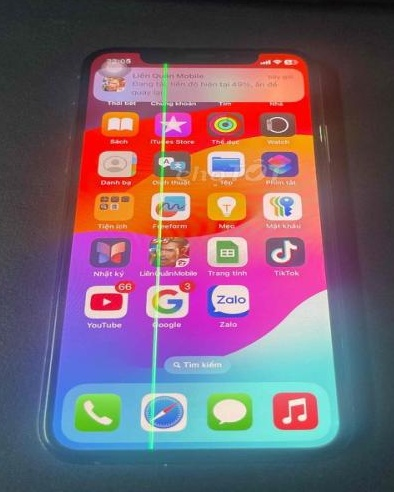screen_defect: (39, 18, 295, 231)
